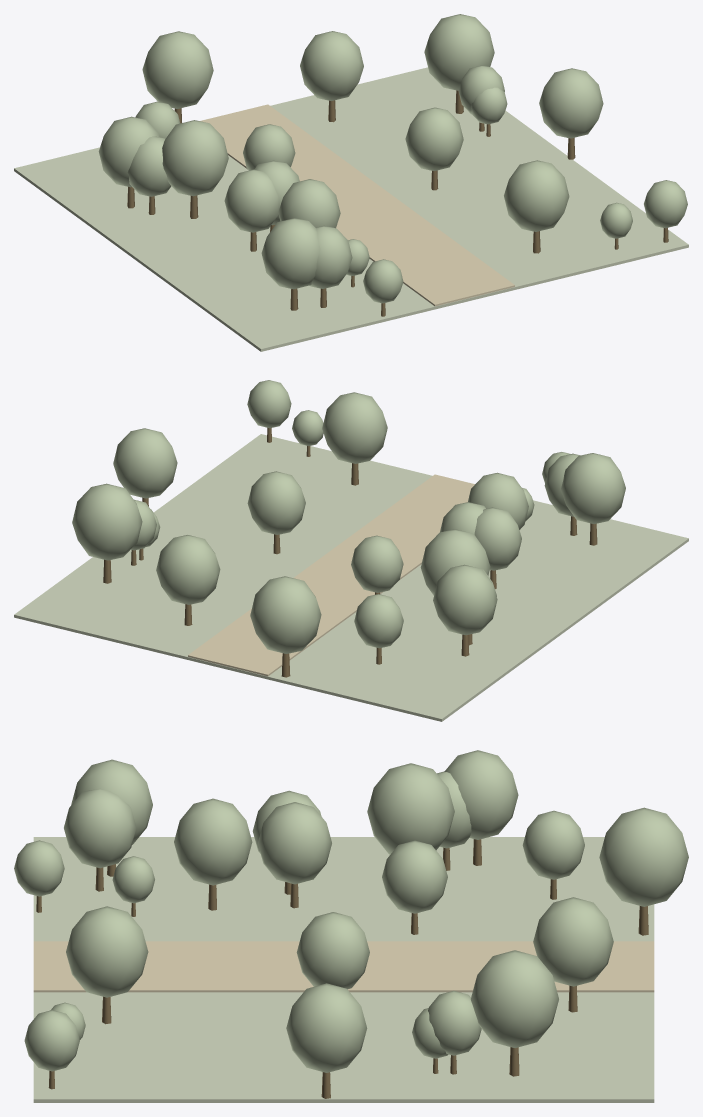
The picture shows the model from 3 angles, top to bottom: view 1: azimuth 30°, elevation 25°; view 2: azimuth 150°, elevation 25°; view 3: azimuth 270°, elevation 25°; orthographic projection. The views are drawn at different scales.
Visible parts, largest first — view 1: terrain, object 2, lod-near-12, lod-near-30, lod-near-3, lod-near-0, lod-near-7, lod-near-26, lod-near-19, lod-near-28, lod-near-17, lod-near-15 (+12 smaller); view 2: terrain, object 2, lod-near-12, lod-near-3, lod-near-0, lod-near-19, lod-near-15, lod-near-7, lod-near-26, lod-near-28, lod-near-30, lod-near-2 (+8 smaller); view 3: terrain, object 2, lod-near-12, lod-near-3, lod-near-30, lod-near-0, lod-near-7, lod-near-26, lod-near-24, lod-near-31, lod-near-23, lod-near-28 (+11 smaller).
Boxes of the visible parts, left/top/right/bottom form: terrain: left=14, top=67, right=688, bottom=351; object 2: left=200, top=104, right=514, bottom=306; lod-near-12: left=142, top=31, right=213, bottom=108; lod-near-30: left=162, top=120, right=228, bottom=196; lod-near-3: left=424, top=14, right=494, bottom=90; lod-near-0: left=504, top=160, right=569, bottom=231; lod-near-7: left=539, top=68, right=603, bottom=138; lod-near-26: left=300, top=31, right=363, bottom=100; lod-near-19: left=261, top=218, right=320, bottom=289; lod-near-28: left=405, top=107, right=463, bottom=170; lod-near-17: left=224, top=169, right=278, bottom=232; lod-near-15: left=98, top=116, right=159, bottom=187; terrain: left=14, top=434, right=688, bottom=721; object 2: left=188, top=474, right=474, bottom=676; lod-near-12: left=250, top=576, right=321, bottom=653; lod-near-3: left=72, top=483, right=142, bottom=560; lod-near-0: left=322, top=392, right=387, bottom=463; lod-near-19: left=561, top=453, right=625, bottom=523; lod-near-15: left=433, top=564, right=497, bottom=635; lod-near-7: left=113, top=428, right=177, bottom=498; lod-near-26: left=156, top=535, right=220, bottom=604; lod-near-28: left=247, top=471, right=305, bottom=534; lod-near-30: left=420, top=529, right=490, bottom=595; lod-near-2: left=351, top=535, right=403, bottom=592; terrain: left=33, top=837, right=654, bottom=1102; object 2: left=33, top=941, right=654, bottom=992; lod-near-12: left=599, top=807, right=688, bottom=906; lod-near-3: left=470, top=950, right=558, bottom=1047; lod-near-30: left=367, top=763, right=454, bottom=854; lod-near-0: left=66, top=906, right=148, bottom=997; lod-near-7: left=286, top=983, right=367, bottom=1072; lod-near-26: left=533, top=897, right=613, bottom=986; lod-near-24: left=174, top=798, right=252, bottom=885; lod-near-31: left=258, top=802, right=331, bottom=884; lod-near-23: left=64, top=788, right=136, bottom=868; lod-near-28: left=296, top=912, right=369, bottom=989.
Bounding box in the file's own units: 34.01 × 7.29 × 34.81.
